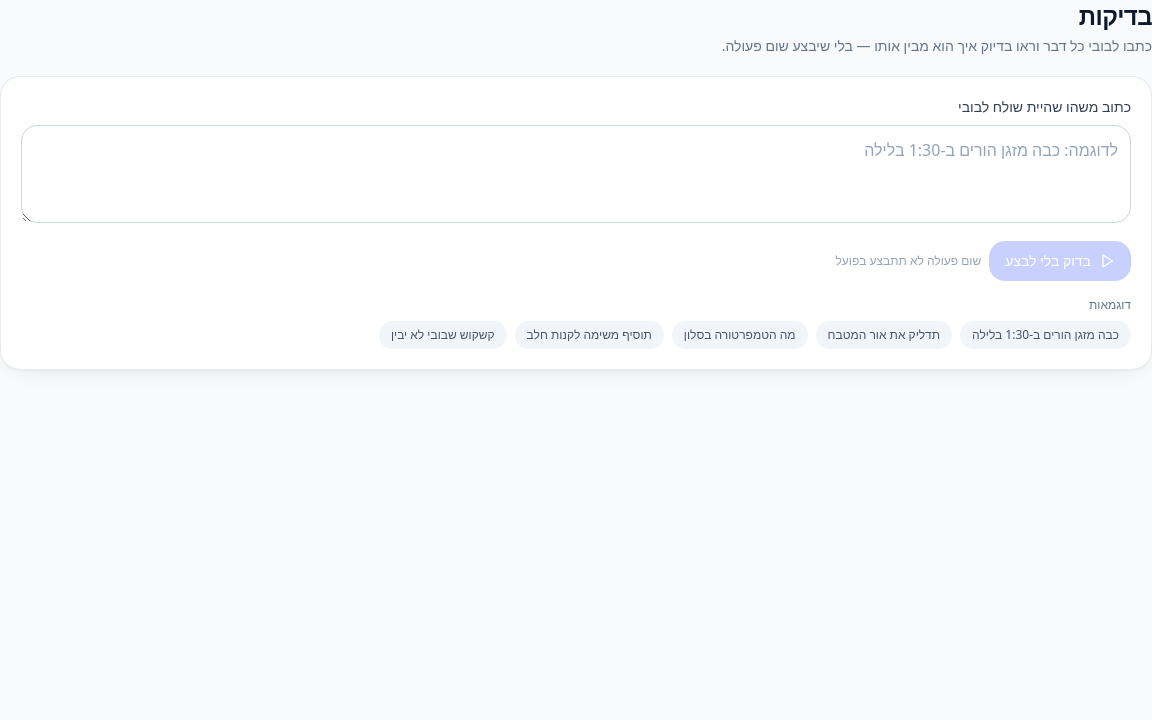
TestCenterPage › reports a bridge failure without a traceback
The width and height of the screenshot is (1152, 720).
Type "בדיקה" into the text box labelled "כתוב משהו שהיית שולח לבובי" at (576, 174), box x1=21 y1=125 x2=1131 y2=223
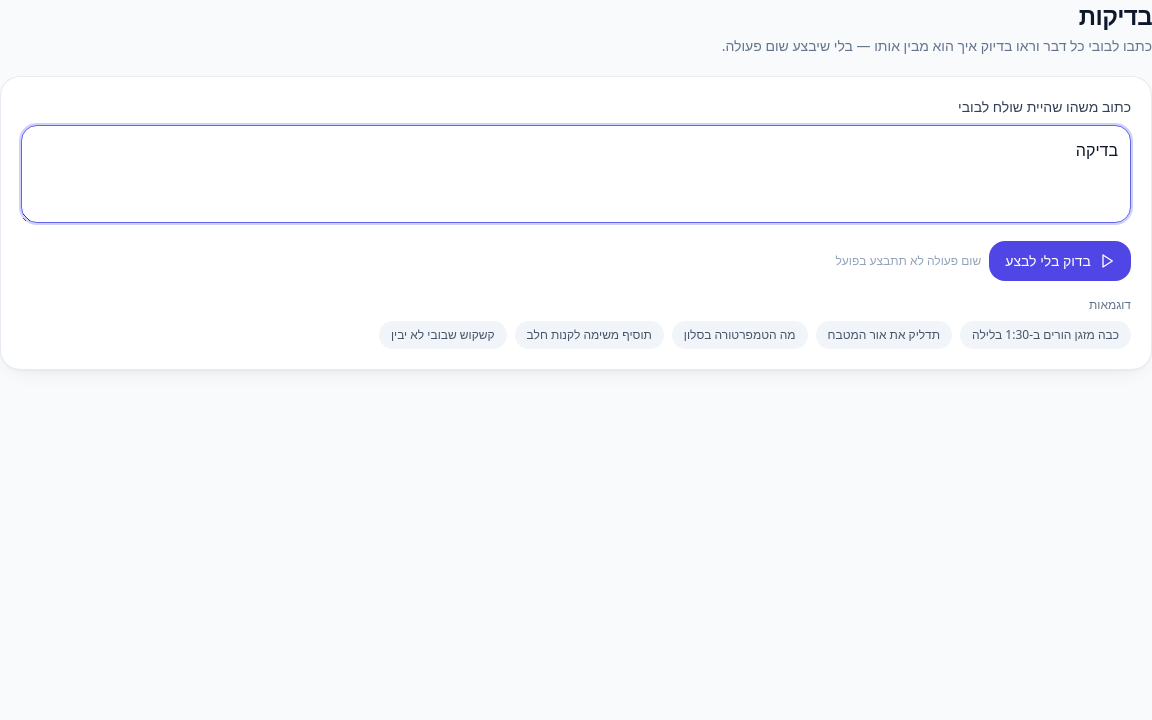
Click the button "בדוק בלי לבצע" at (1060, 261), box x1=989 y1=241 x2=1131 y2=281
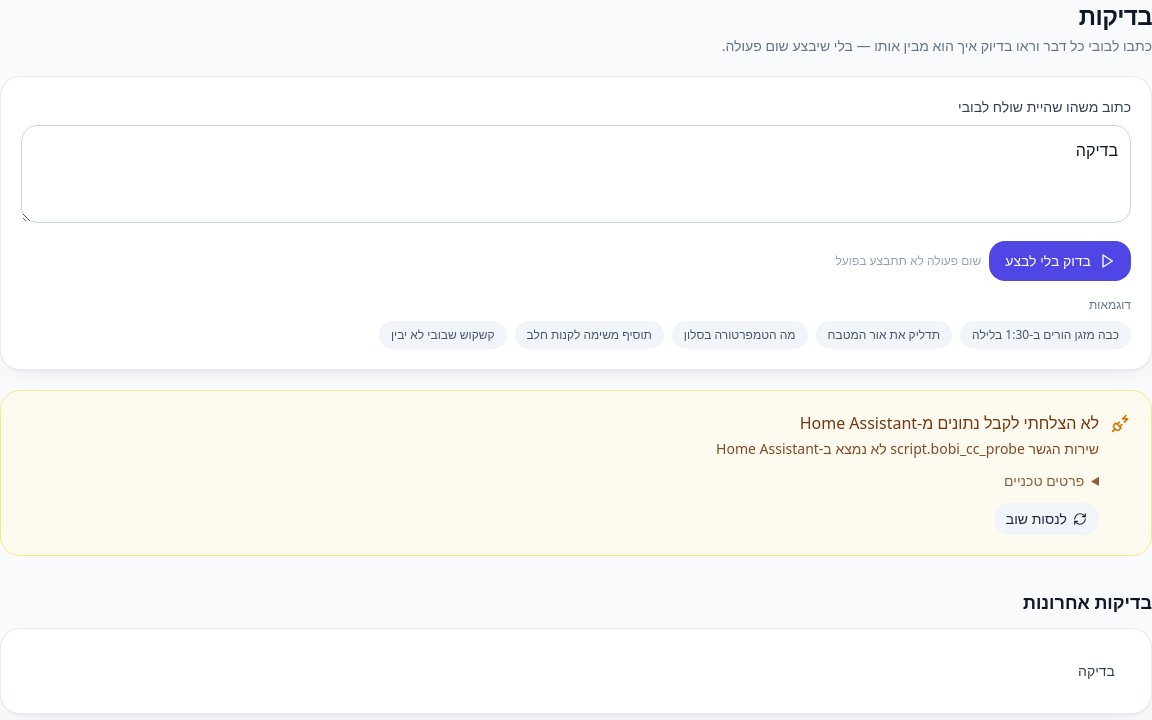
Result: the message shows "לא הצלחתי לקבל נתונים מ-Home Assistant" at x1=800 y1=412 x2=1099 y2=434
